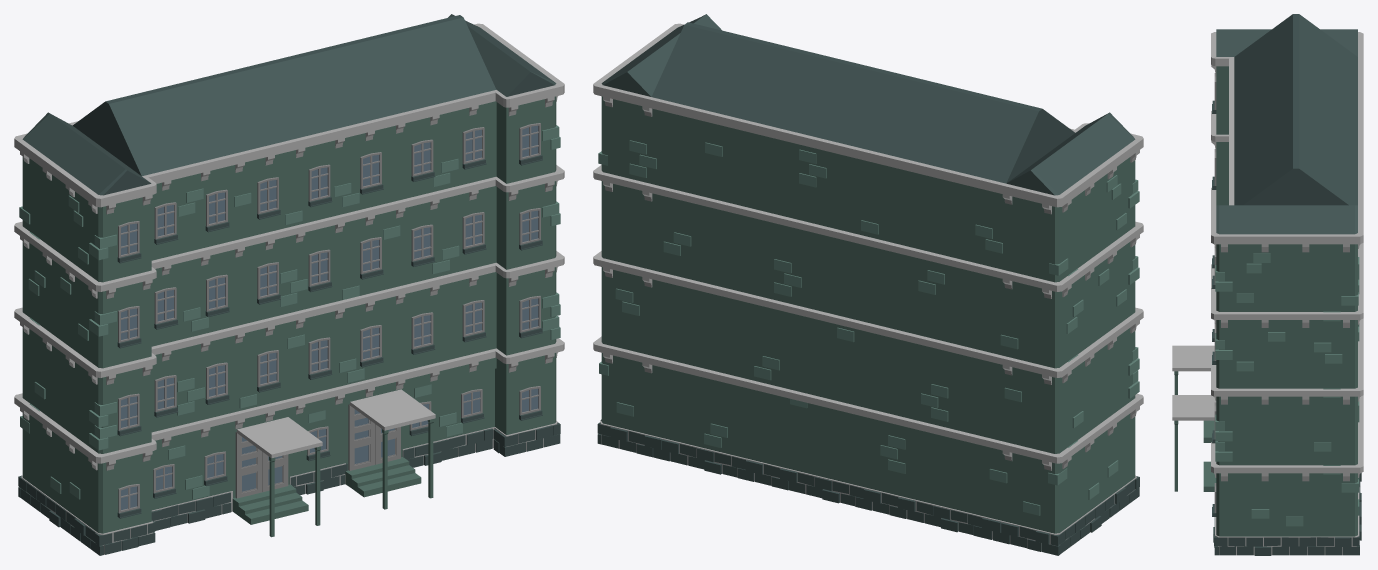
The model's file is 4Story_Wide_2Doors_Roof_Mat.gltf.
3 views of the same model, side by side, from view 1: azimuth 30°, elevation 25°; view 2: azimuth 150°, elevation 25°; view 3: azimuth 270°, elevation 25° (orthographic). The views are drawn at different scales.
Visible parts, largest first — view 1: o 4Story_Wide_2Doors_Roof_Mat_Cube.004; view 2: o 4Story_Wide_2Doors_Roof_Mat_Cube.004; view 3: o 4Story_Wide_2Doors_Roof_Mat_Cube.004.
Part boxes in pixels (bbox=[...]): o 4Story_Wide_2Doors_Roof_Mat_Cube.004: bbox=[14, 14, 564, 555]; o 4Story_Wide_2Doors_Roof_Mat_Cube.004: bbox=[593, 14, 1143, 555]; o 4Story_Wide_2Doors_Roof_Mat_Cube.004: bbox=[1172, 14, 1363, 555].
Size of the model in its own units: 6.83 by 5.68 by 2.7.
